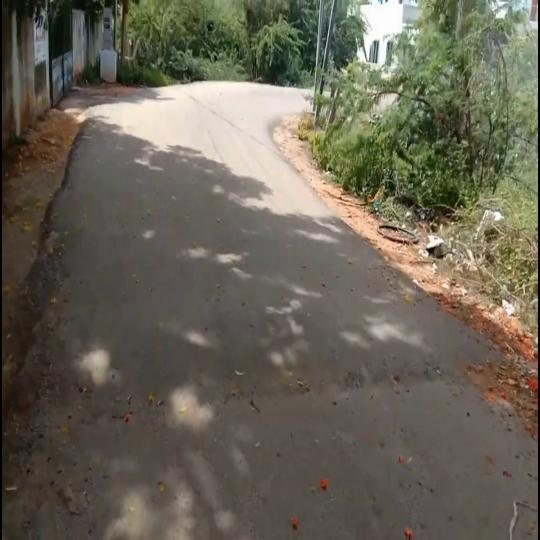Speed Bump: (9, 290, 499, 380)
